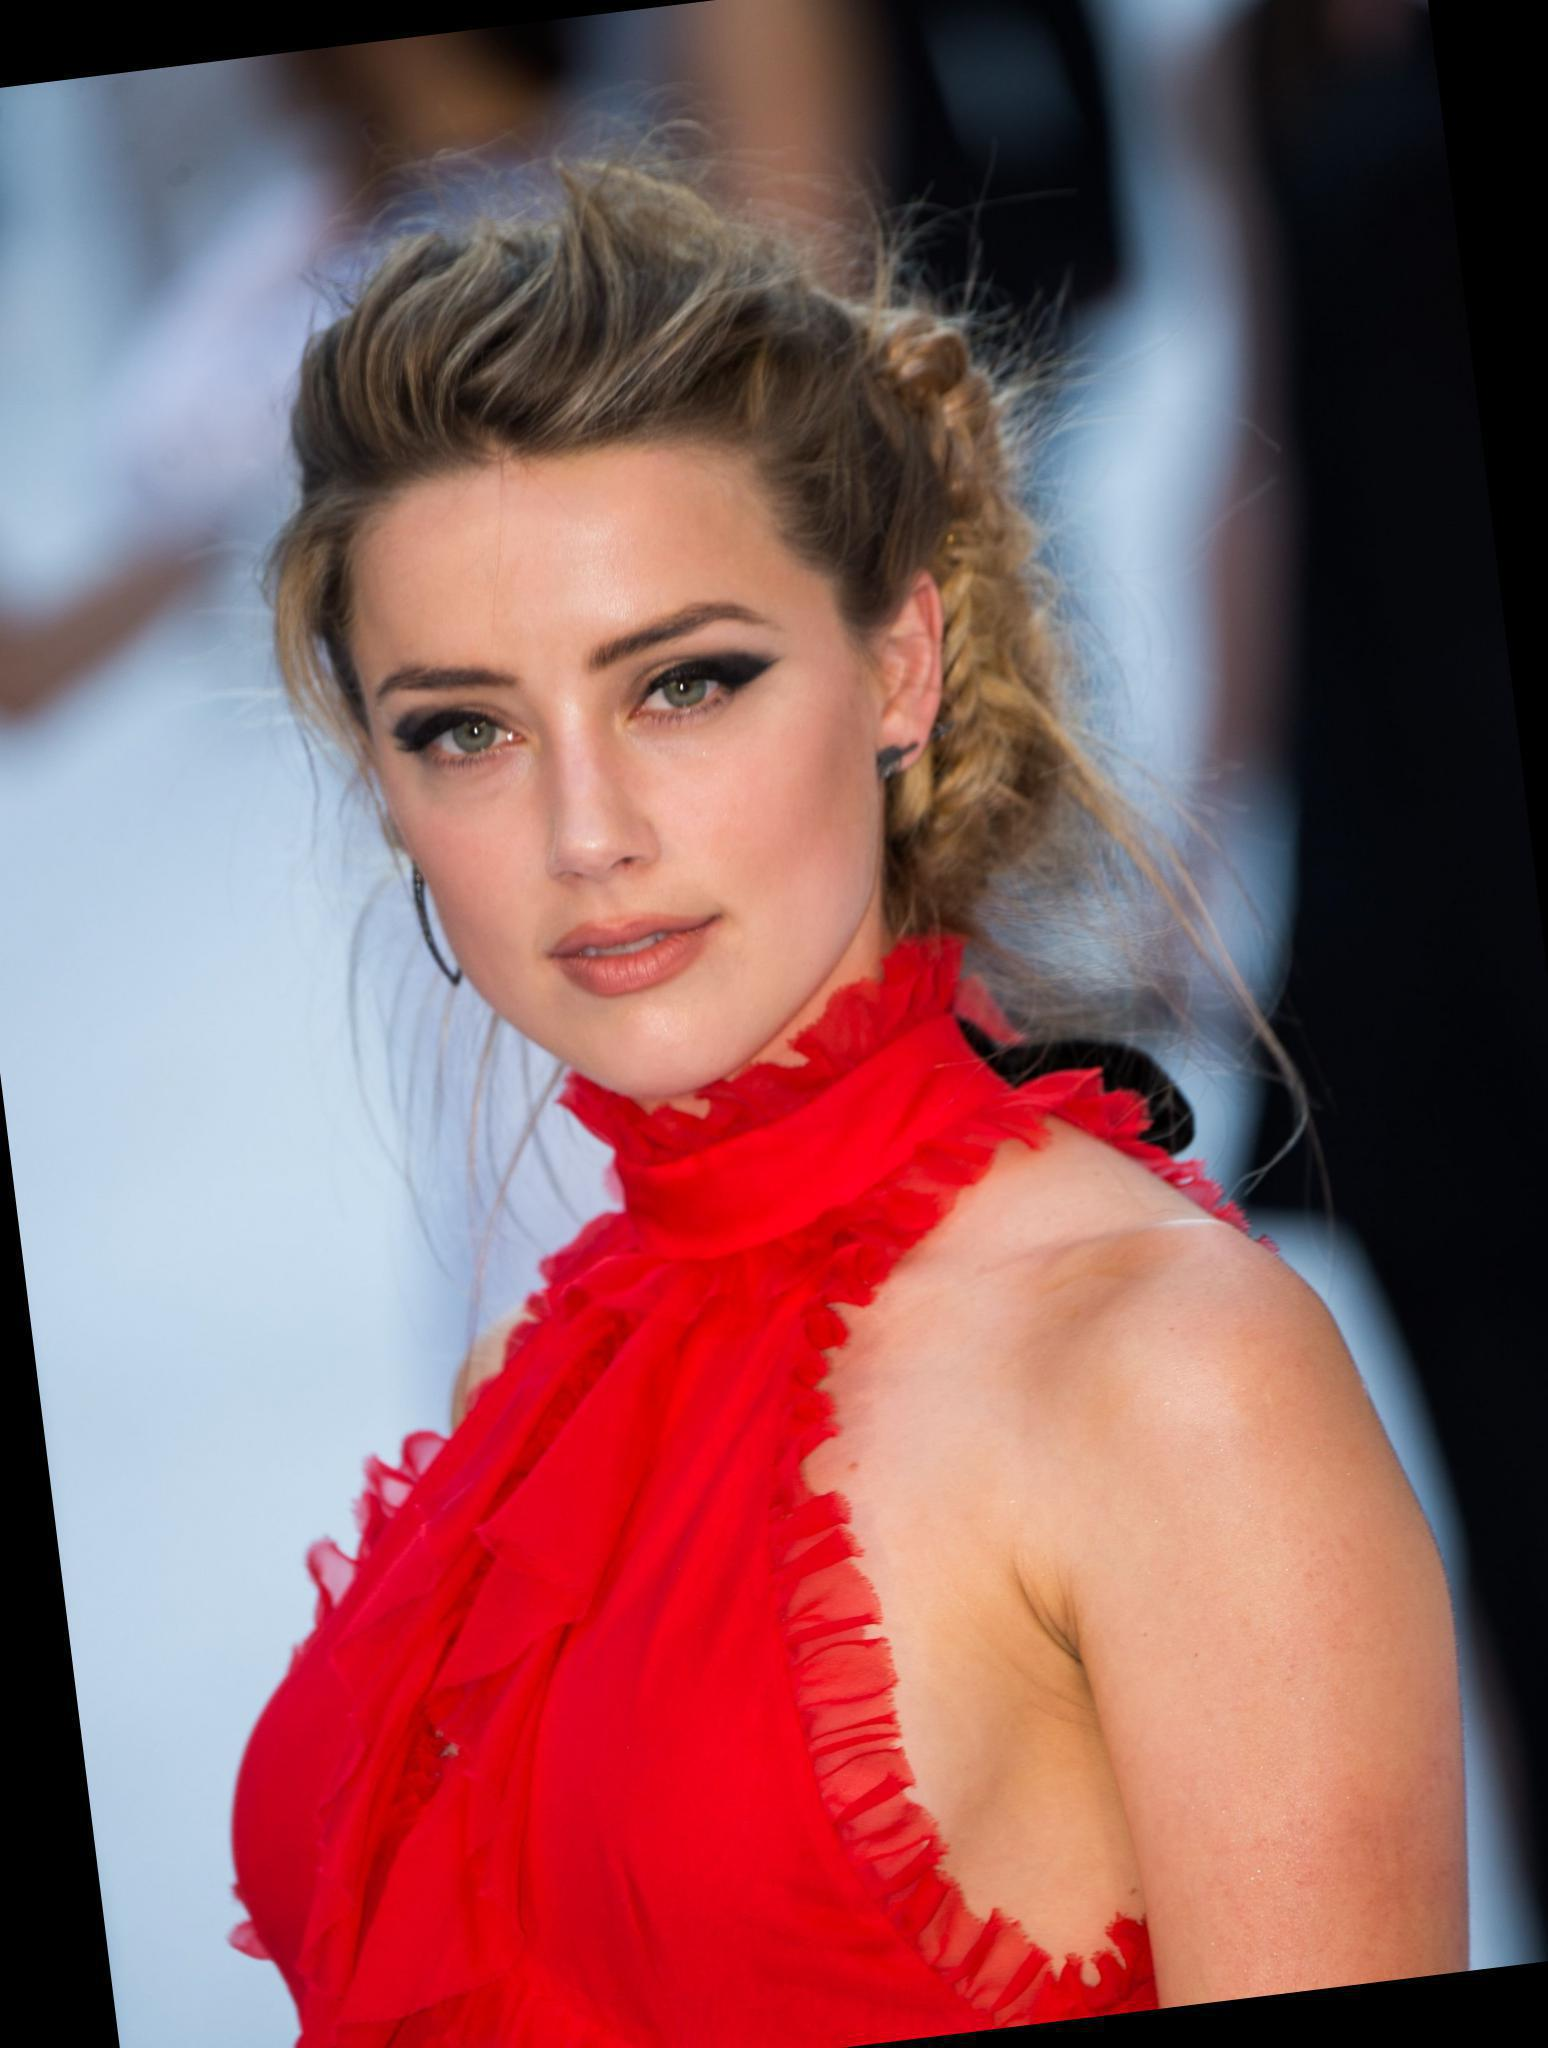Sober: (382, 491, 837, 1053)
